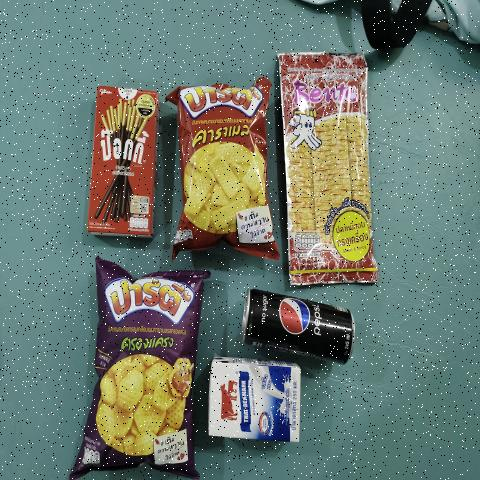bento_red: (294, 58, 362, 282)
party_purple: (80, 269, 196, 464)
party_red: (184, 86, 270, 236)
pepsi_black: (243, 280, 365, 367)
pokki: (96, 76, 156, 235)
thai_denmark: (211, 358, 302, 442)
